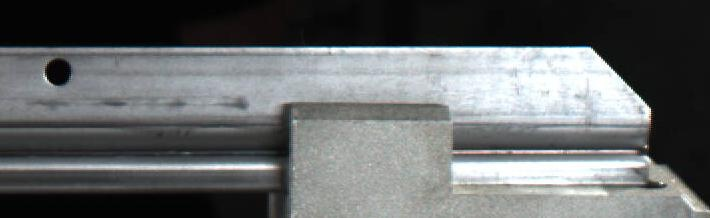cut: (479, 38, 663, 189)
holes: (42, 56, 72, 85)
